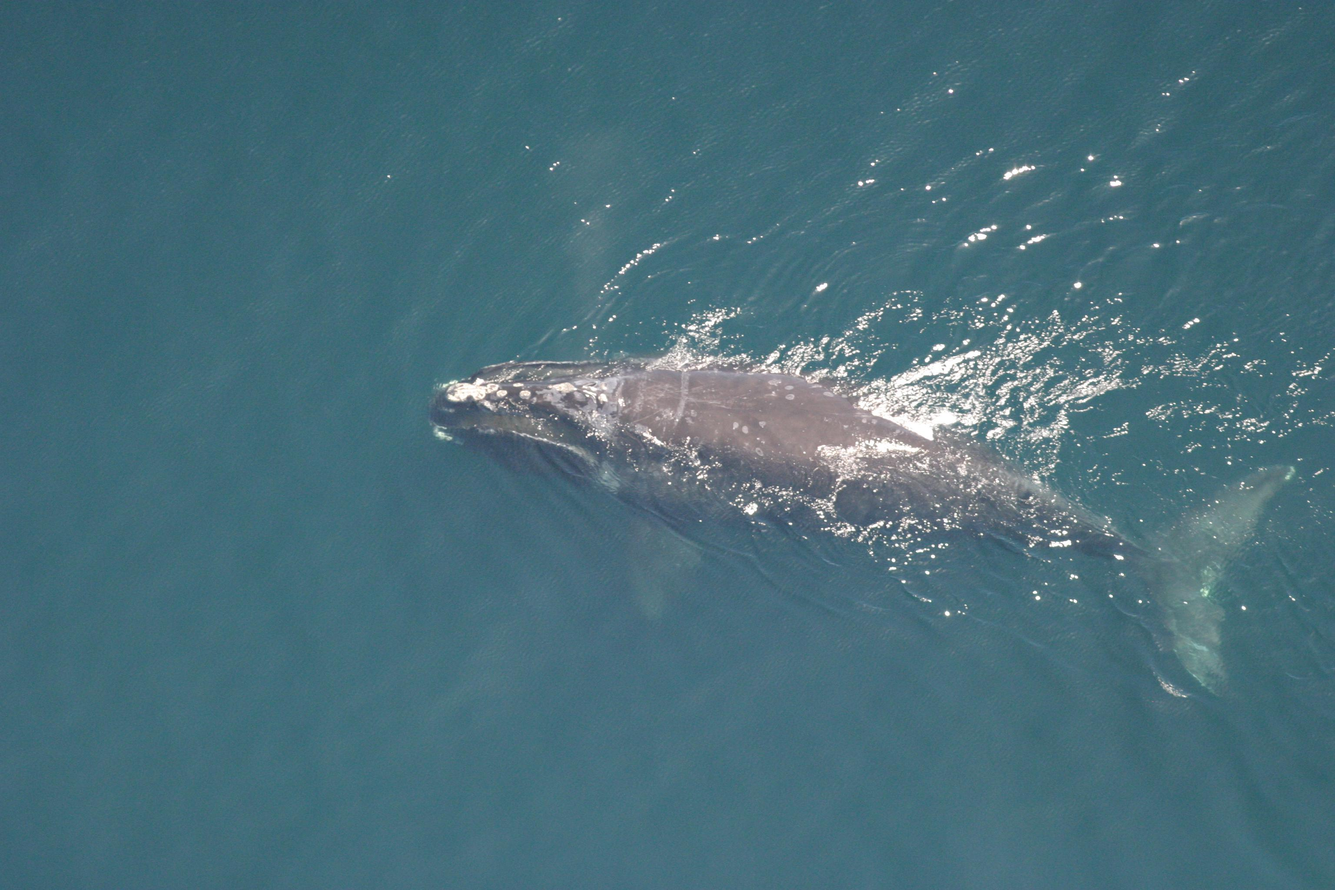whale: (419, 339, 1306, 716)
